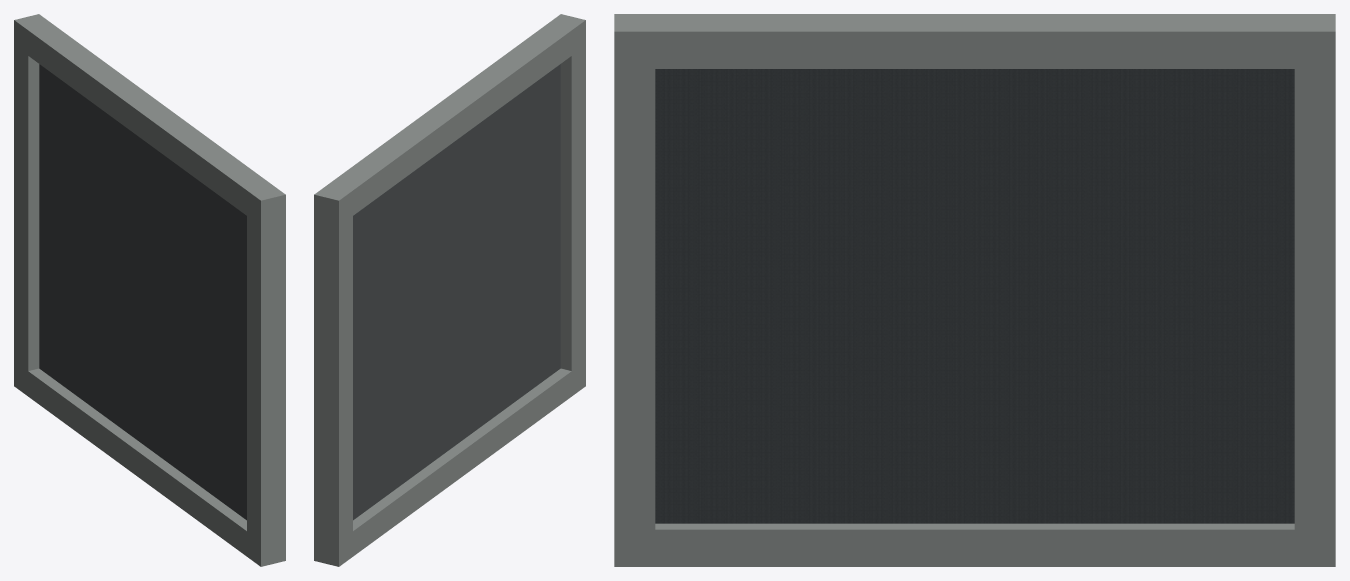
3 renders of one model, left to right at view 1: azimuth 30°, elevation 25°; view 2: azimuth 150°, elevation 25°; view 3: azimuth 270°, elevation 25°, orthographic. The views are drawn at different scales.
Visible parts, largest first — view 1: __articraft_commit_0002_0000; view 2: __articraft_commit_0002_0000; view 3: __articraft_commit_0002_0000.
Boxes of the visible parts, x1,y1,x2,y2 form: __articraft_commit_0002_0000: (14, 14, 285, 566); __articraft_commit_0002_0000: (314, 14, 585, 566); __articraft_commit_0002_0000: (614, 14, 1335, 566).
Bounding box in the file's own units: 0.044 × 0.619 × 0.756.
Materials: 2 (1 with a texture image).
